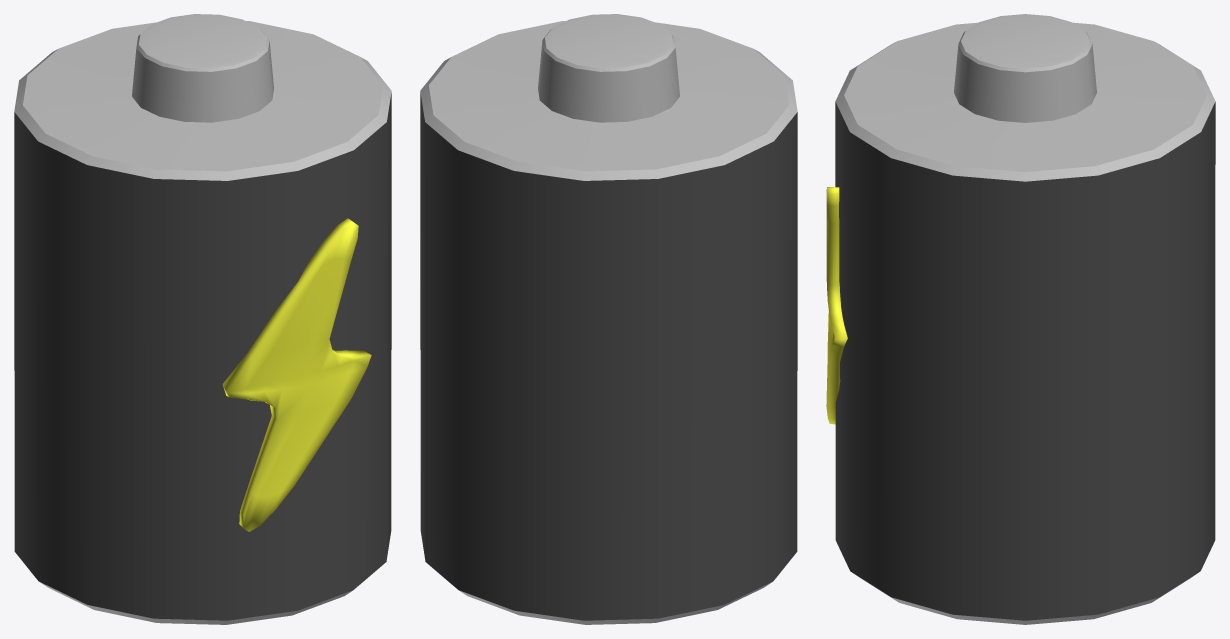
The model's file is Props_Battery2.fbx.
3 views of the same model, side by side, from view 1: azimuth 30°, elevation 25°; view 2: azimuth 150°, elevation 25°; view 3: azimuth 270°, elevation 25° (orthographic).
Visible parts, largest first — view 1: Props_Battery2; view 2: Props_Battery2; view 3: Props_Battery2.
Boxes of the visible parts, bbox=[...] form: Props_Battery2: bbox=[14, 14, 391, 624]; Props_Battery2: bbox=[420, 14, 797, 624]; Props_Battery2: bbox=[826, 14, 1215, 624].
Size of the model in its own units: 15.58 by 23.01 by 15.94.
